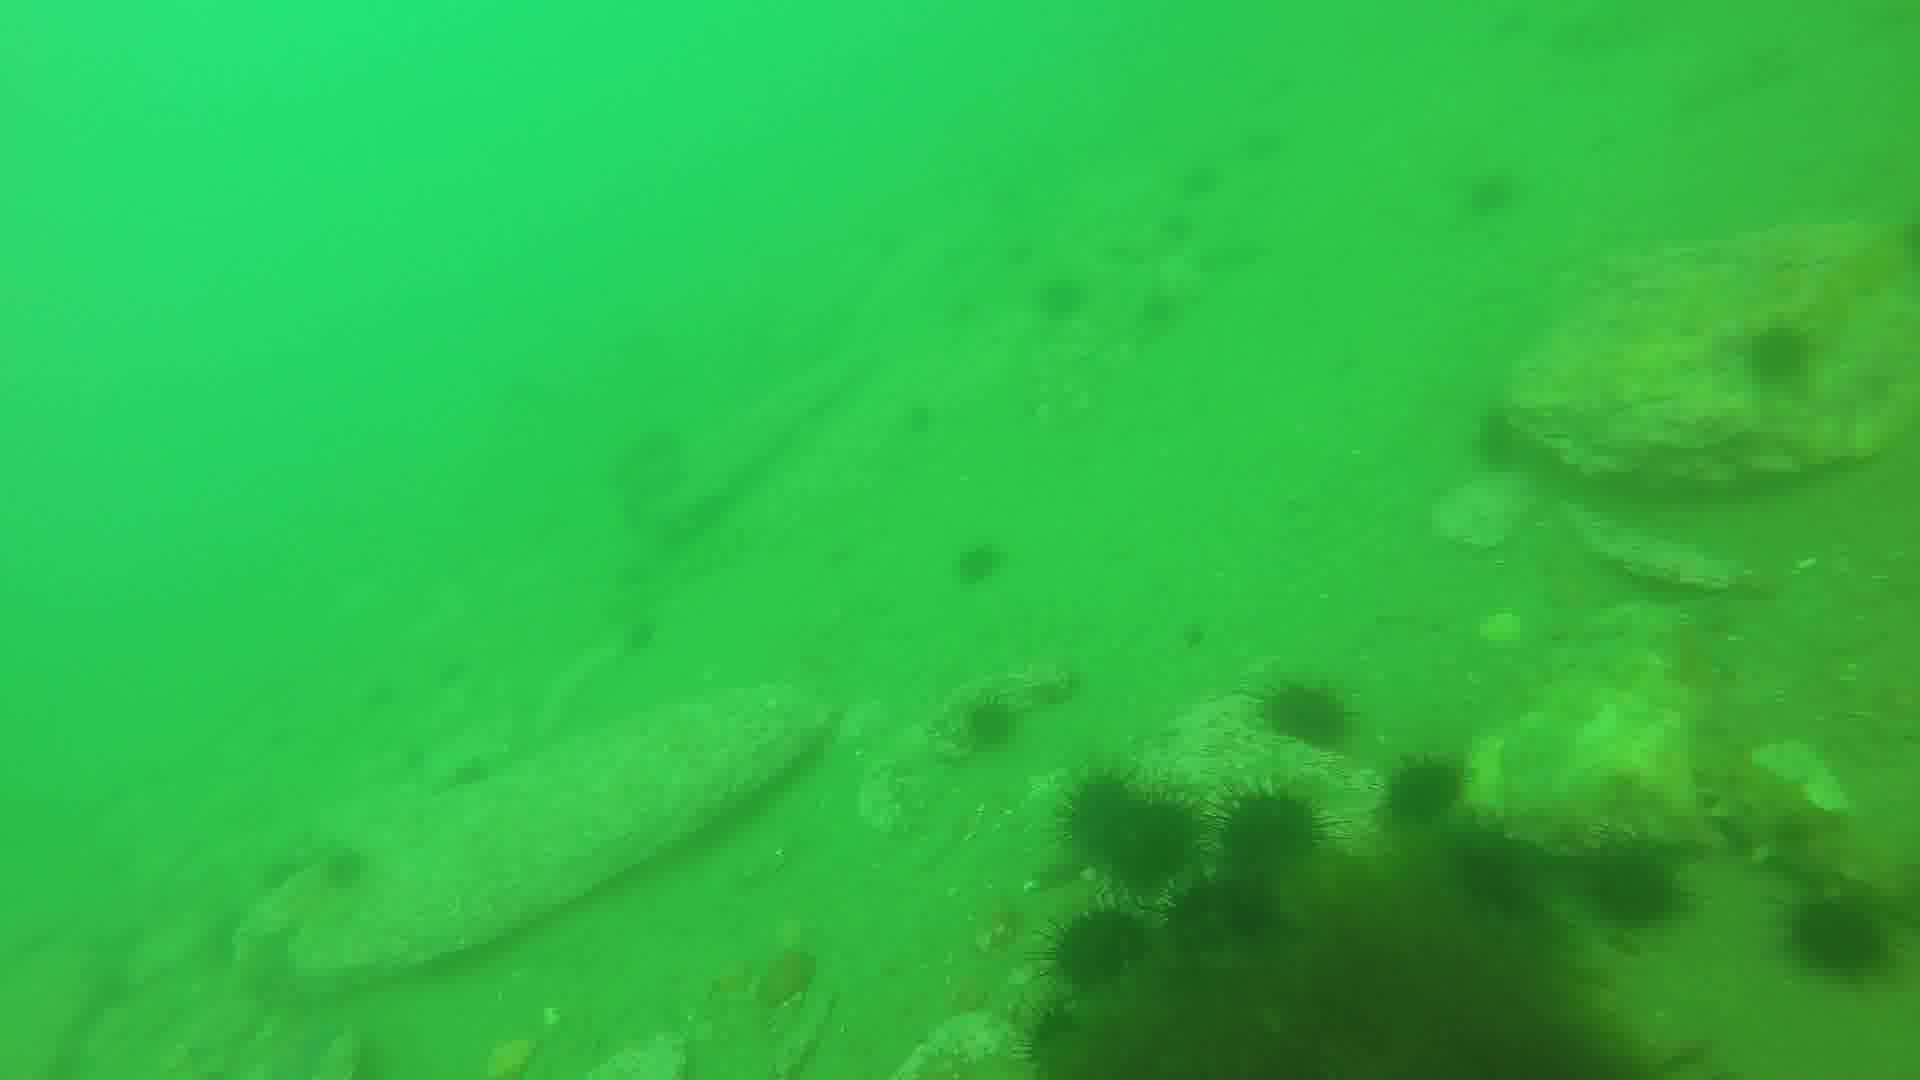echinus: (1044, 905, 1158, 996), (1575, 839, 1692, 924), (1110, 794, 1212, 891), (1441, 820, 1539, 920), (1788, 899, 1894, 985), (1218, 796, 1331, 869), (1172, 876, 1284, 948), (1269, 674, 1361, 756), (1058, 770, 1137, 862), (1387, 758, 1484, 828), (1751, 336, 1822, 392), (1466, 175, 1526, 231), (315, 844, 377, 893), (960, 700, 1019, 748), (1038, 274, 1098, 316), (1234, 127, 1288, 169), (963, 538, 1011, 580), (1158, 208, 1203, 248), (1174, 169, 1233, 196)
